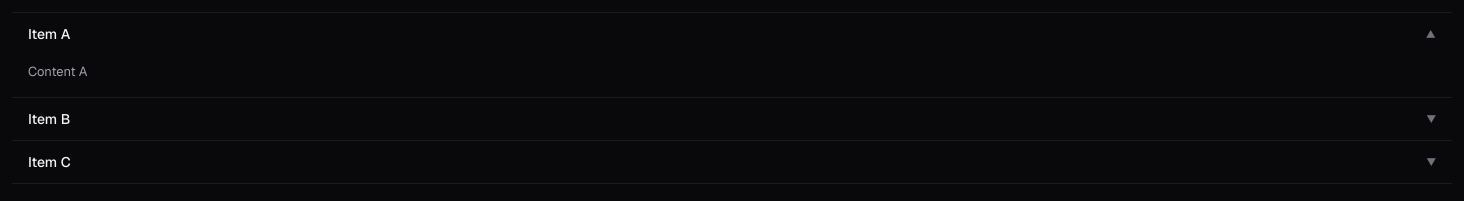
Test case: Accordion › single mode: opening one item closes the previously open item
Step 1. Click the button "Item B ▼" → (49, 119), box [12,98,1452,140]
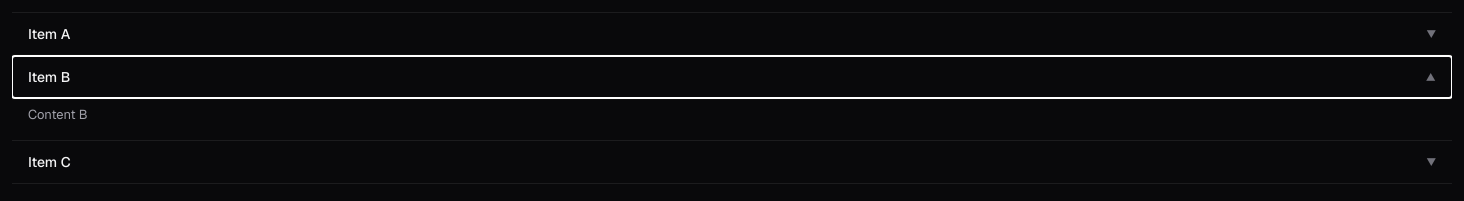
Expected: the button "Item A ▼" is collapsed, [12,13,1452,55]
Expected: the button "Item B ▼" is expanded, [12,56,1452,98]
